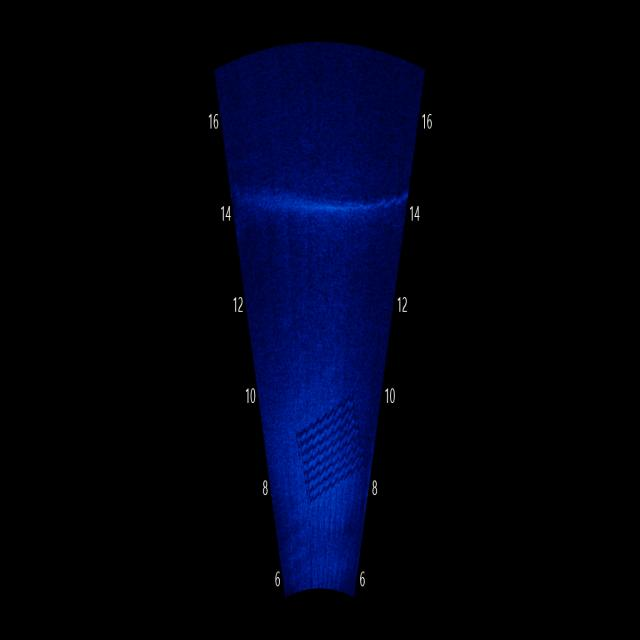square: (293, 400, 371, 494)
